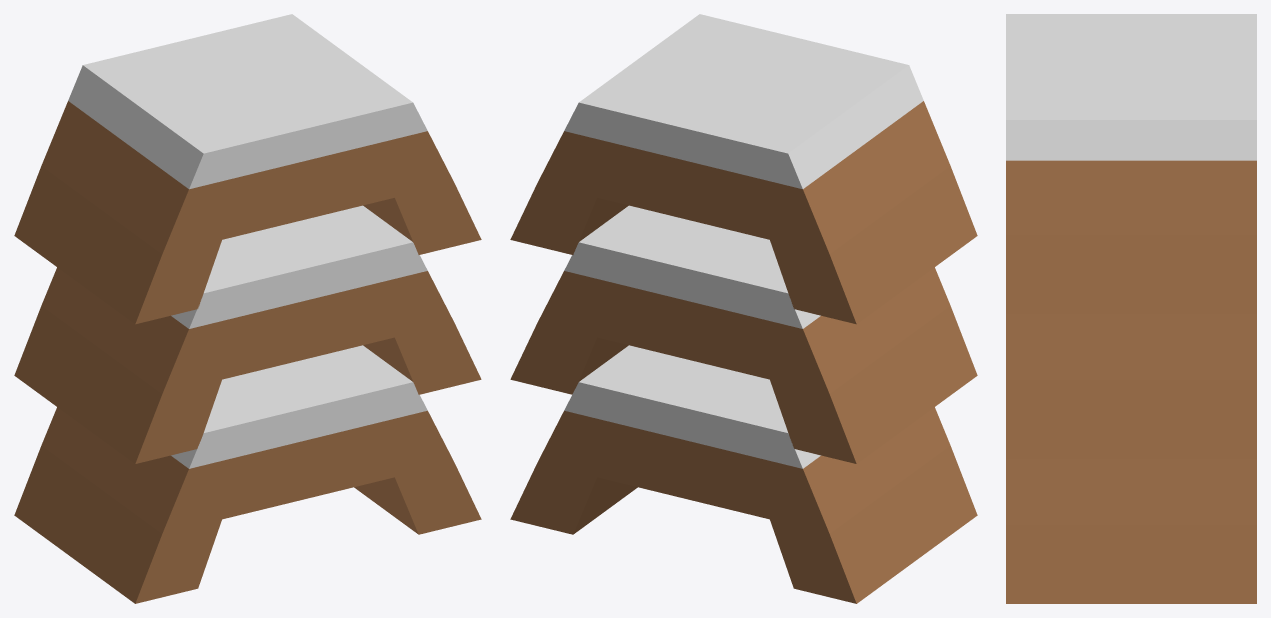
The model's file is ManyMockmas.fbx.
3 renders of one model, left to right at view 1: azimuth 30°, elevation 25°; view 2: azimuth 150°, elevation 25°; view 3: azimuth 270°, elevation 25°, orthographic. The views are drawn at different scales.
Visible parts, largest first — view 1: 큐브; view 2: 큐브; view 3: 큐브.
Part boxes in pixels (x1,y1,x2,y2): 큐브: (14,14,481,603); 큐브: (510,14,977,603); 큐브: (1006,14,1256,603).
Bounding box in the file's own units: 126 × 151 × 76.28.
